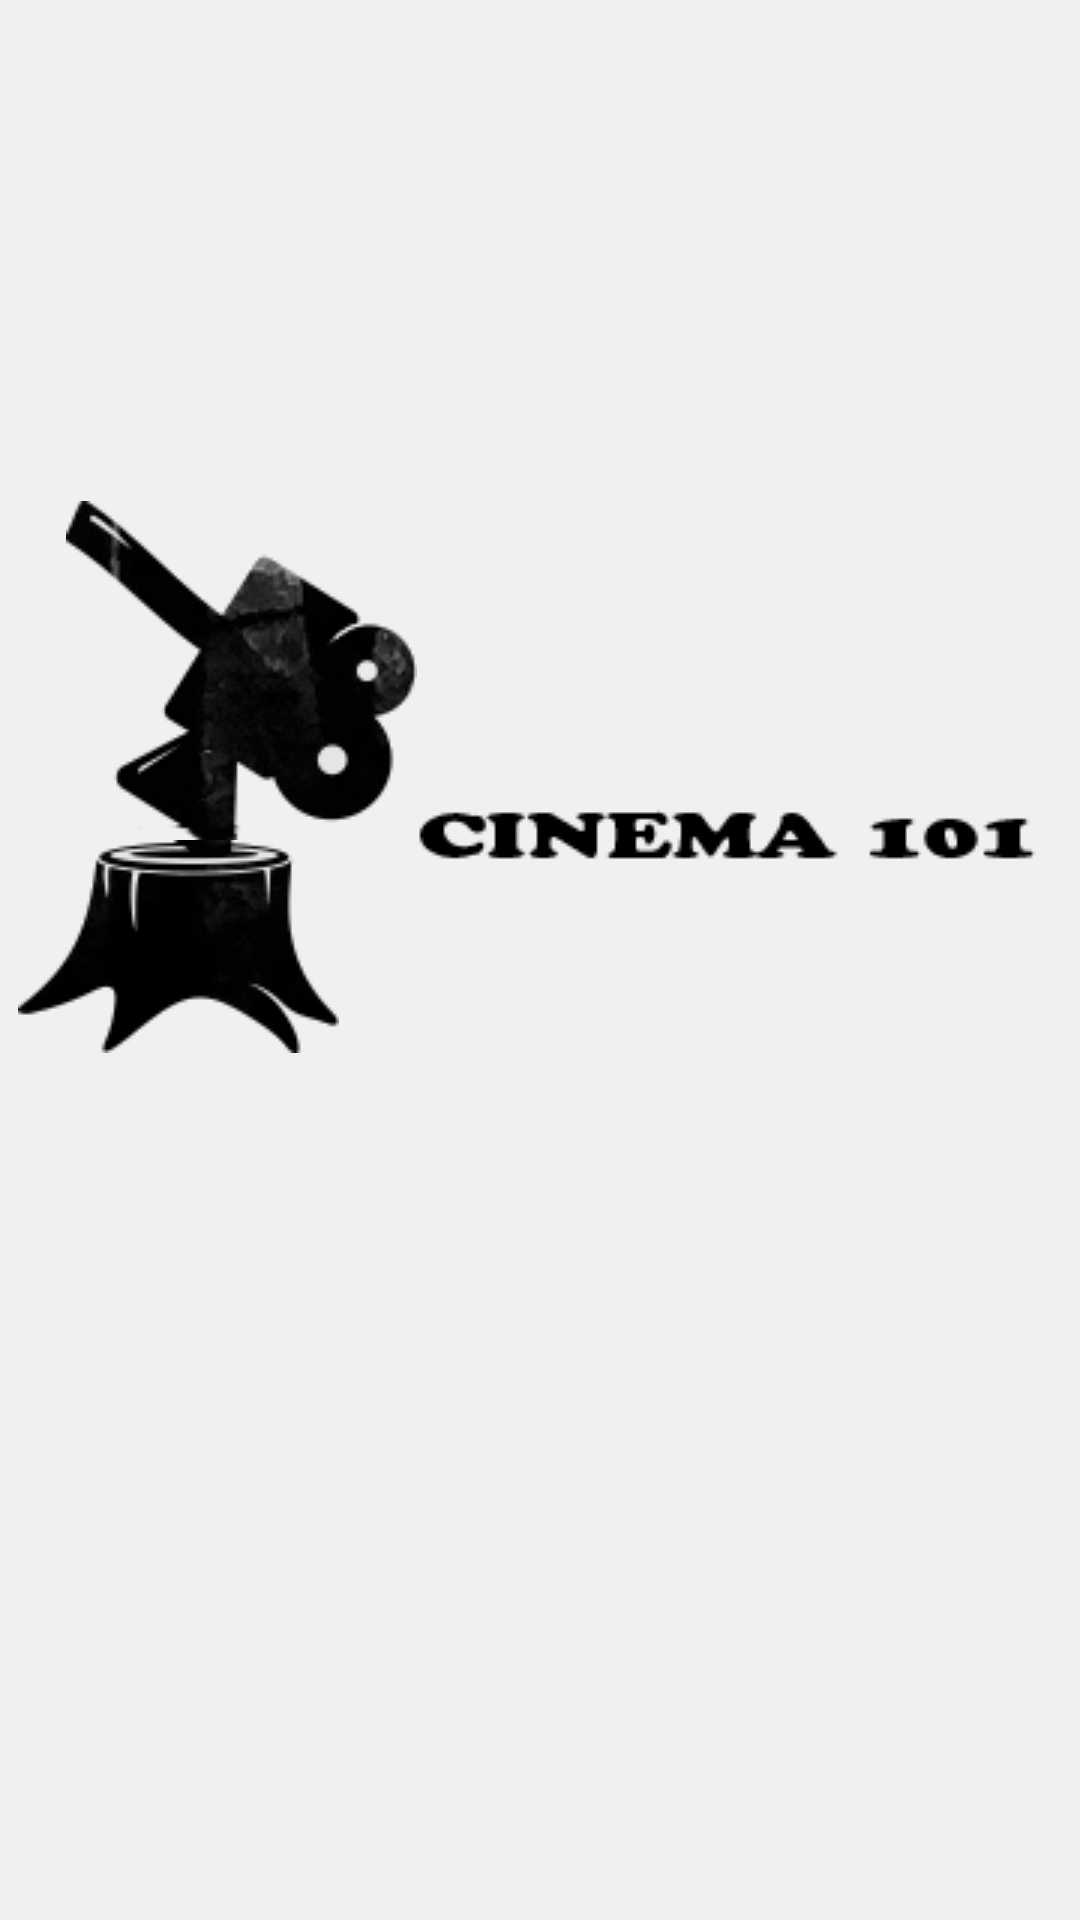

Where icons sit on this 1080px×1920px app screen, as detection(x1, y1, x2, y2):
kok: detection(18, 840, 339, 1053)
nacak: detection(66, 501, 417, 840)
